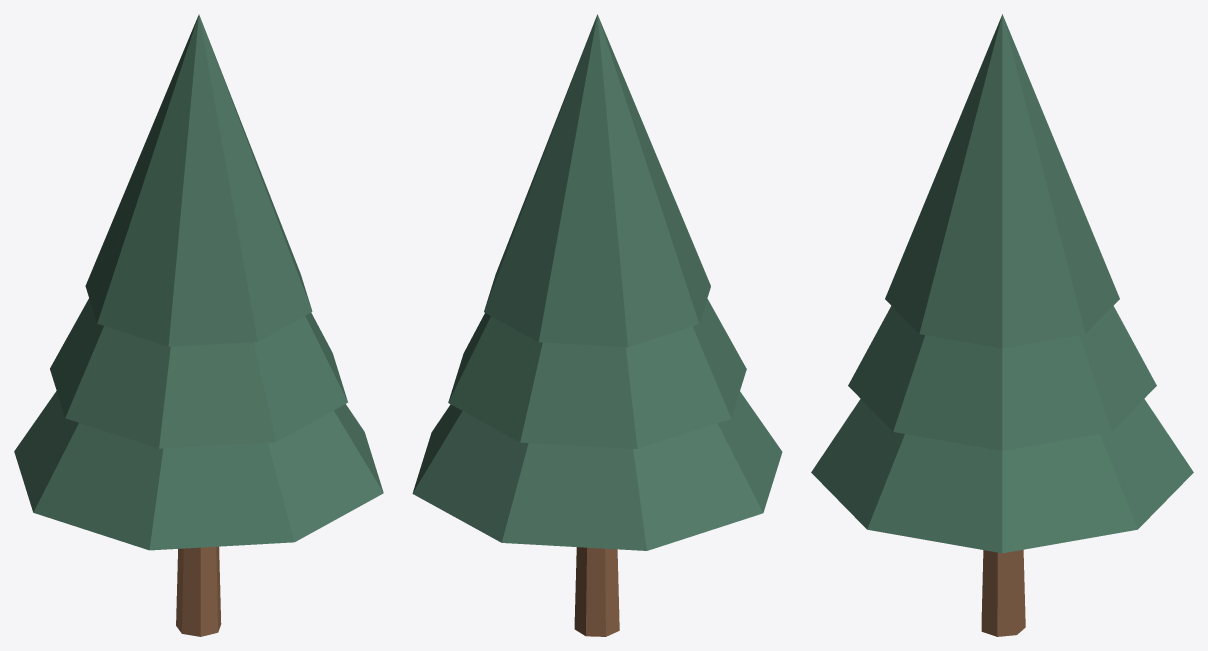
The model's file is pine_lod.glb.
3 renders of one model, left to right at view 1: azimuth 30°, elevation 25°; view 2: azimuth 150°, elevation 25°; view 3: azimuth 270°, elevation 25°, orthographic.
Visible parts, largest first — view 1: pine_Pine_Crown.002, pine_Pine_Crown, pine_Pine_Crown.001, pine_Tree_Trunk; view 2: pine_Pine_Crown.002, pine_Pine_Crown, pine_Pine_Crown.001, pine_Tree_Trunk; view 3: pine_Pine_Crown.002, pine_Pine_Crown, pine_Pine_Crown.001, pine_Tree_Trunk.
Part boxes in pixels (box(x1,y1,x2,y2)): pine_Pine_Crown.002: box(85, 14, 312, 346); pine_Pine_Crown: box(14, 391, 383, 550); pine_Pine_Crown.001: box(50, 298, 347, 448); pine_Tree_Trunk: box(176, 546, 221, 636); pine_Pine_Crown.002: box(484, 14, 710, 347); pine_Pine_Crown: box(412, 391, 782, 550); pine_Pine_Crown.001: box(448, 298, 746, 448); pine_Tree_Trunk: box(574, 547, 619, 636); pine_Pine_Crown.002: box(885, 14, 1119, 348); pine_Pine_Crown: box(811, 399, 1193, 553); pine_Pine_Crown.001: box(848, 306, 1156, 450); pine_Tree_Trunk: box(981, 549, 1025, 636).
Bounding box in the file's own units: 2.8 × 4.95 × 2.8.
